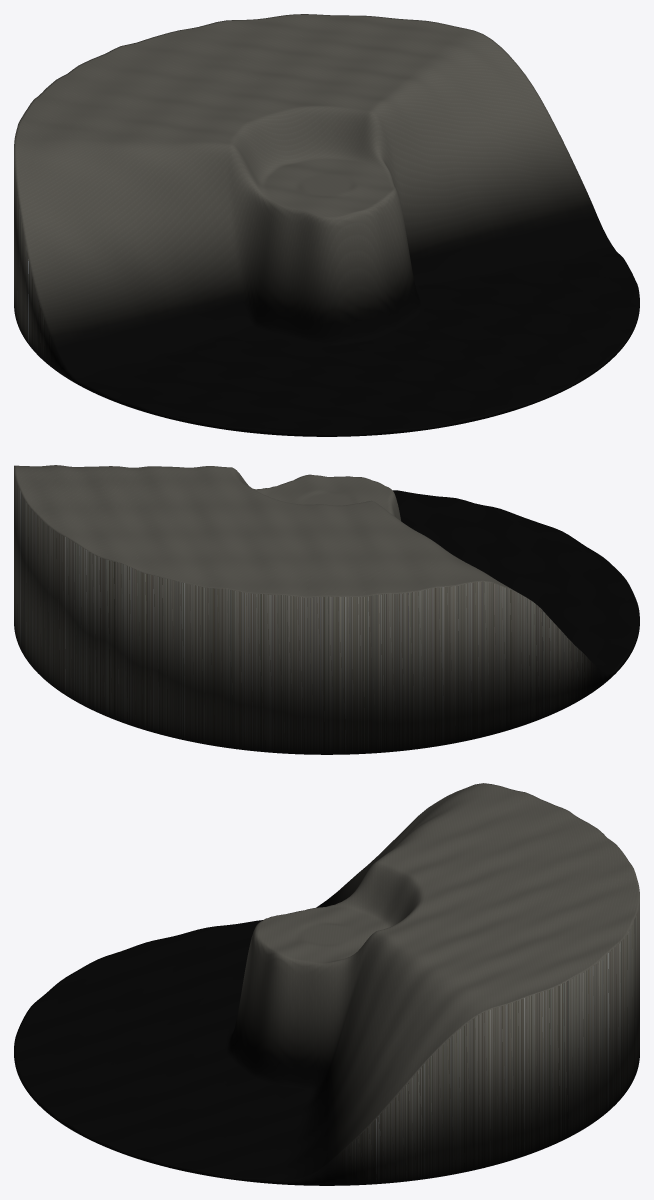
File: ocean-environment.glb
The picture shows the model from 3 angles, top to bottom: view 1: azimuth 30°, elevation 25°; view 2: azimuth 150°, elevation 25°; view 3: azimuth 270°, elevation 25°; orthographic projection.
Visible parts, largest first — view 1: Seabed; view 2: Seabed; view 3: Seabed.
Part boxes in pixels (x1,y1,x2,y2): Seabed: (14,14,639,436); Seabed: (14,465,639,754); Seabed: (14,783,639,1185).
Bounding box in the file's own units: 220 × 61.72 × 220.
1 material, 1 textured.
